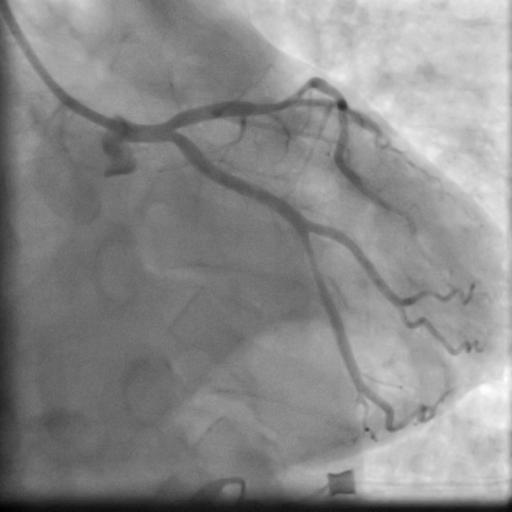Stenosis: (301, 237, 320, 287)
